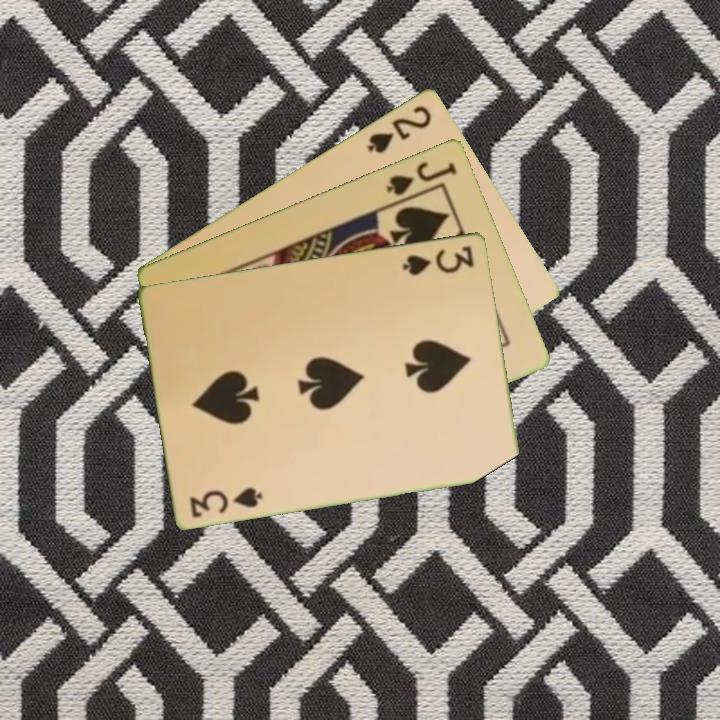2s: (364, 101, 435, 156)
3s: (186, 483, 266, 520), (399, 242, 478, 278)
Js: (382, 157, 460, 198)
